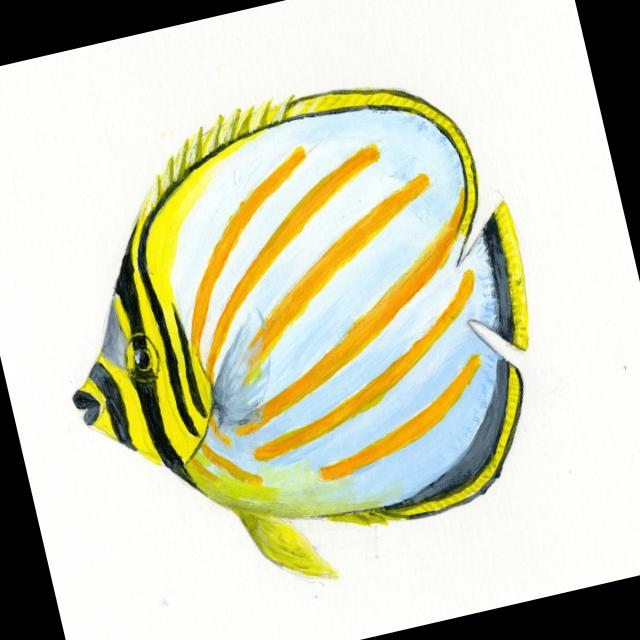ButterflyFish: (16, 53, 583, 622)
